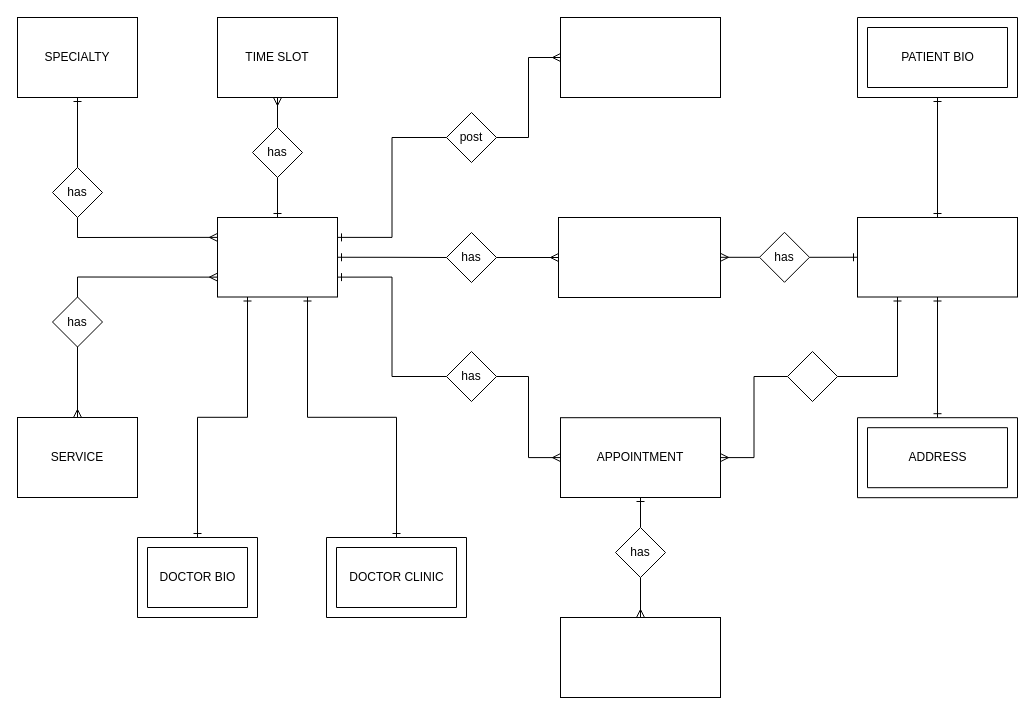
This 1035x715 diagram has some shape labels left out. The centre of each missing label's shape, as x and y in pixels:
"APPOINTMENT LOG" goes at point 640,657.
"DOCTOR" goes at point 277,256.
"FAVORITE" goes at point 639,257.
"make" goes at point 812,376.
"PATIENT" goes at point 937,256.
"REVIEW" goes at point 640,57.
